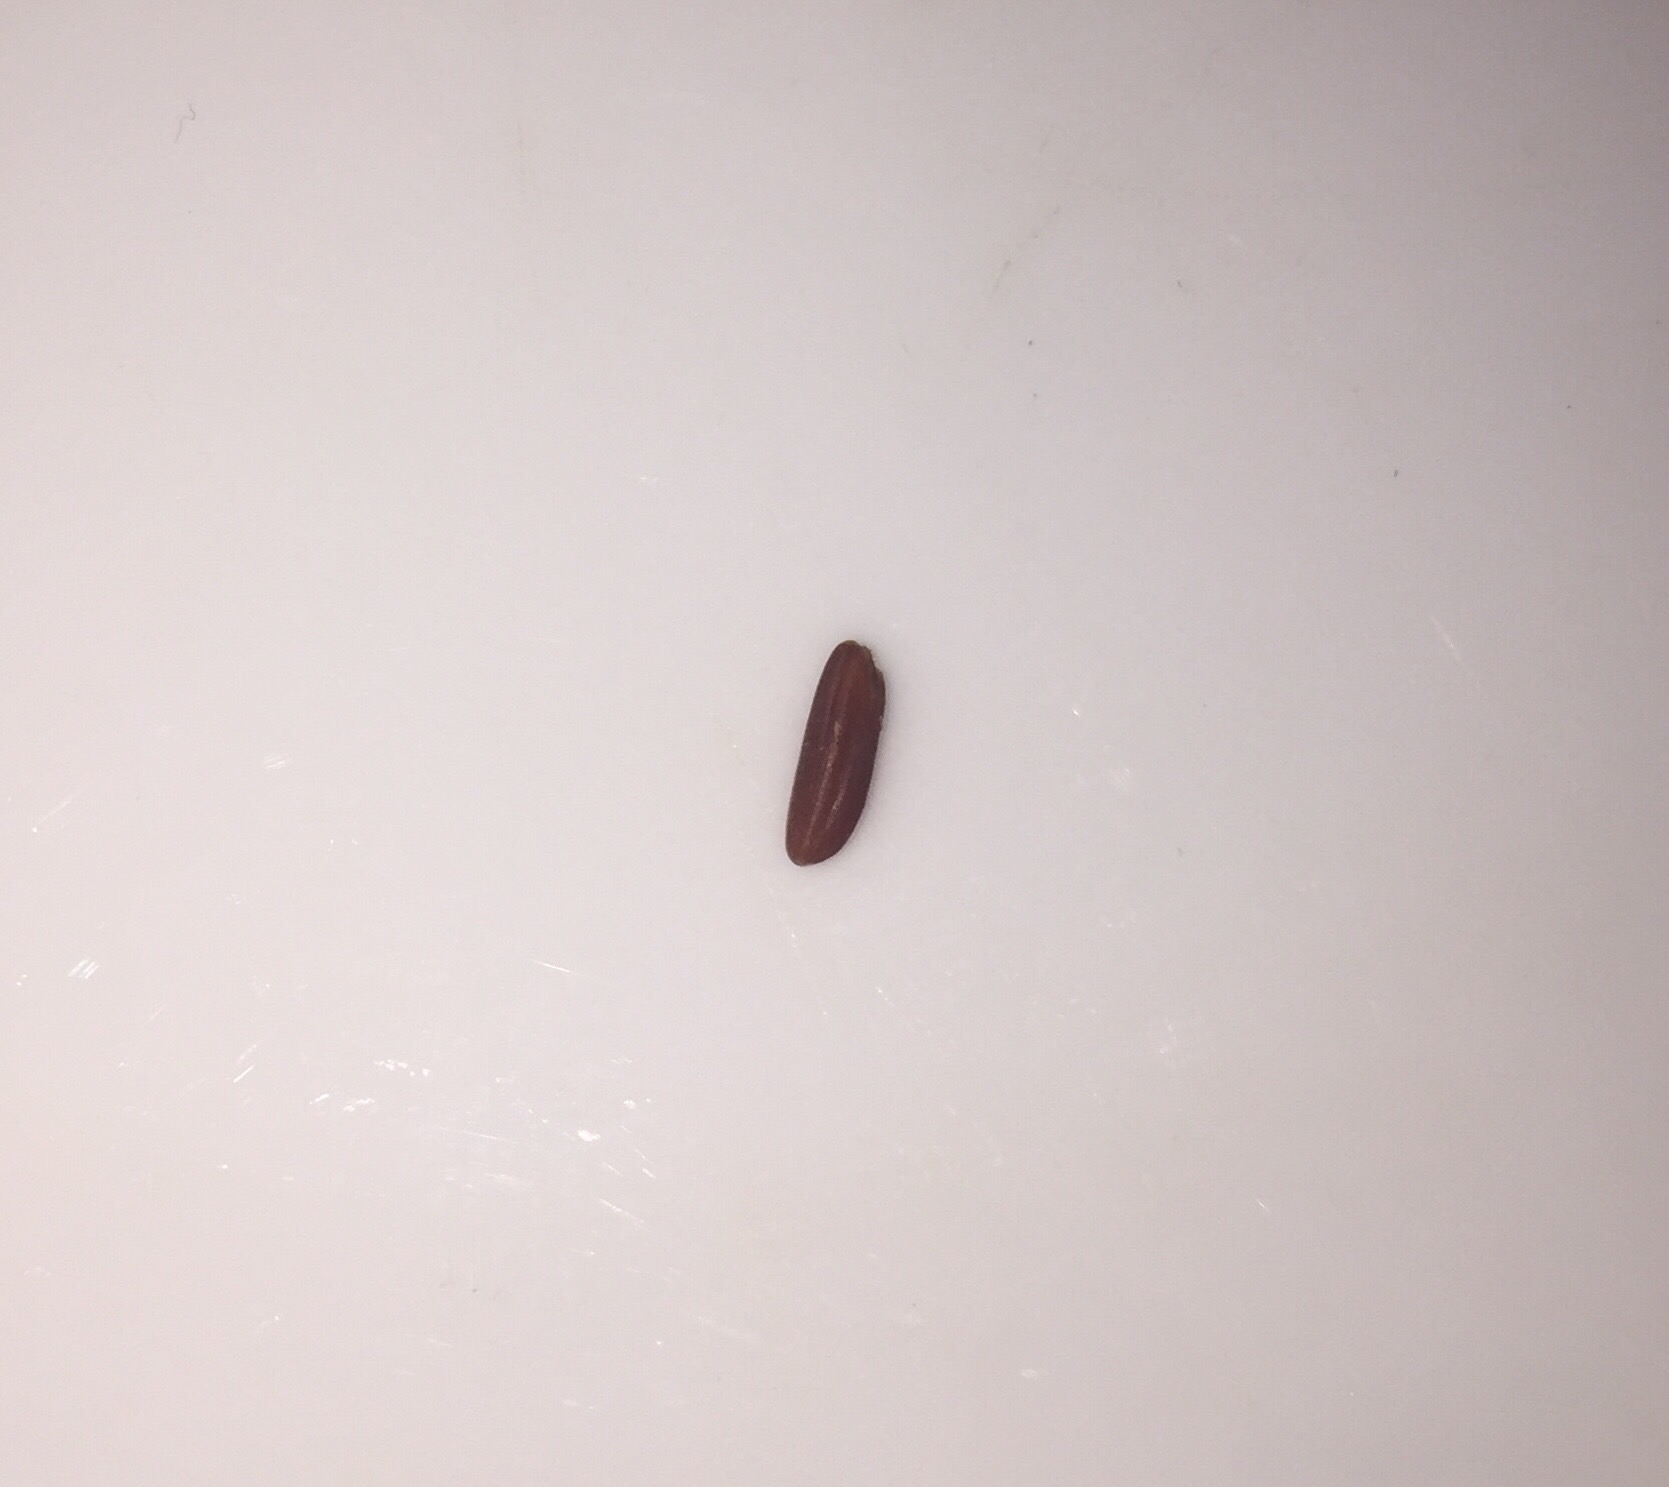Gao Huyet Rong: (776, 632, 893, 886)
